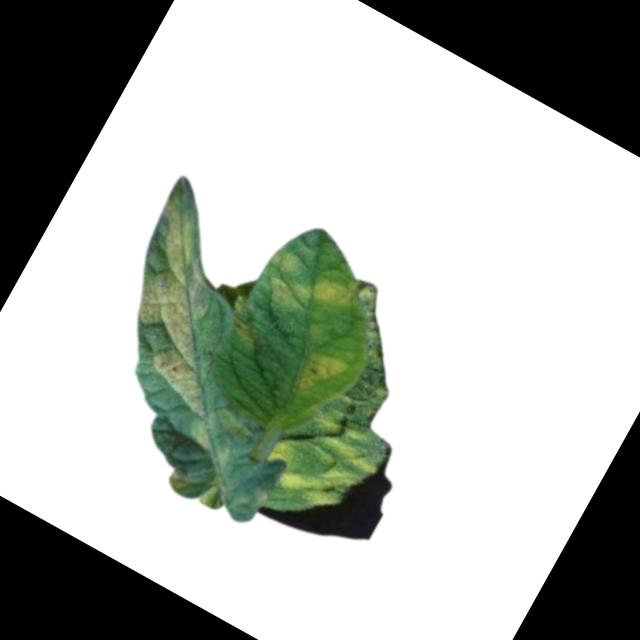Leaf_Mold: (82, 194, 287, 418), (256, 395, 386, 520), (248, 241, 359, 340), (289, 340, 353, 406), (165, 464, 196, 496)
